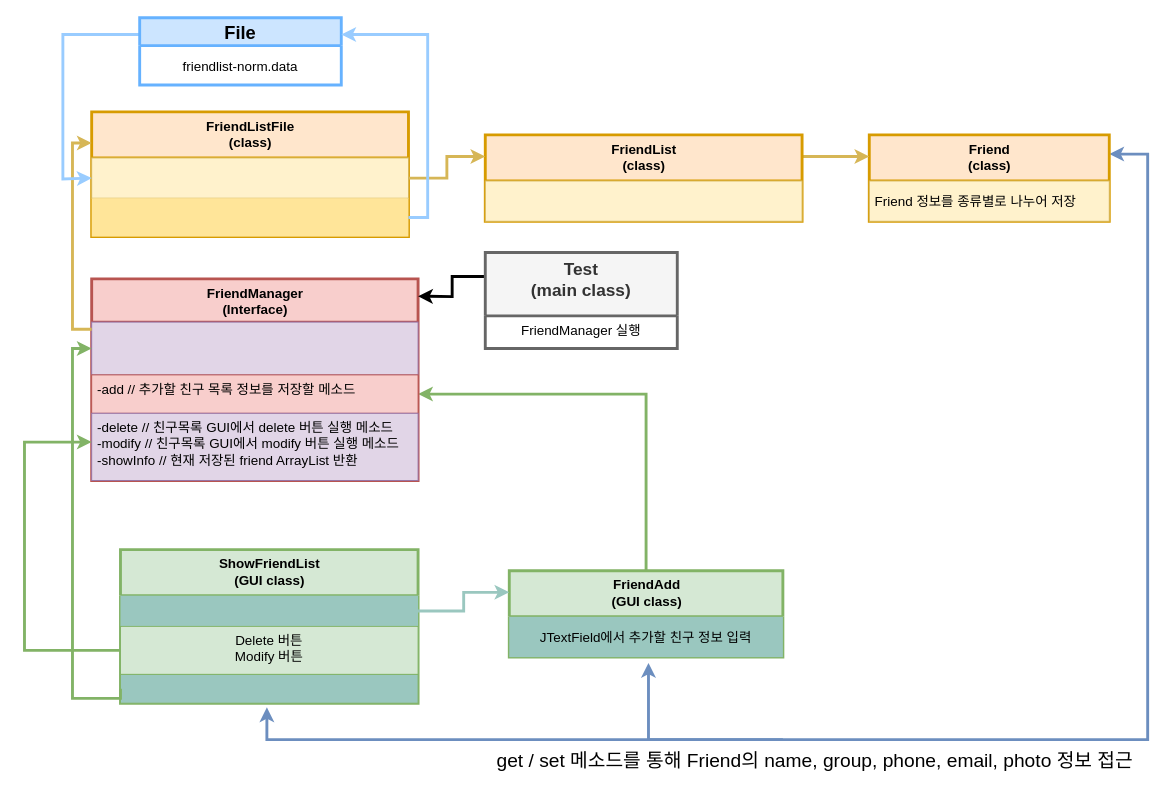
This 1174x787 diagram has some shape labels left out. Here are the shapes that lost their labels. From the top down, the centre of each, then its label:
At pixel 249 177: "readFileToList //파일에 있는 내용을 리스트에 저장".
At pixel 249 217: "writeListToFile //리스트에 있는 내용을 파일에 저장".
At pixel 643 200: "friendInfo // 파일에 있는 line을 받아 Friend에 저장".
At pixel 254 348: "-load // readFileToList 실행 메소드 -save // writeListToFile 실행 메소드".
At pixel 269 610: "Add 버튼".
At pixel 269 688: "Save File 버튼".
